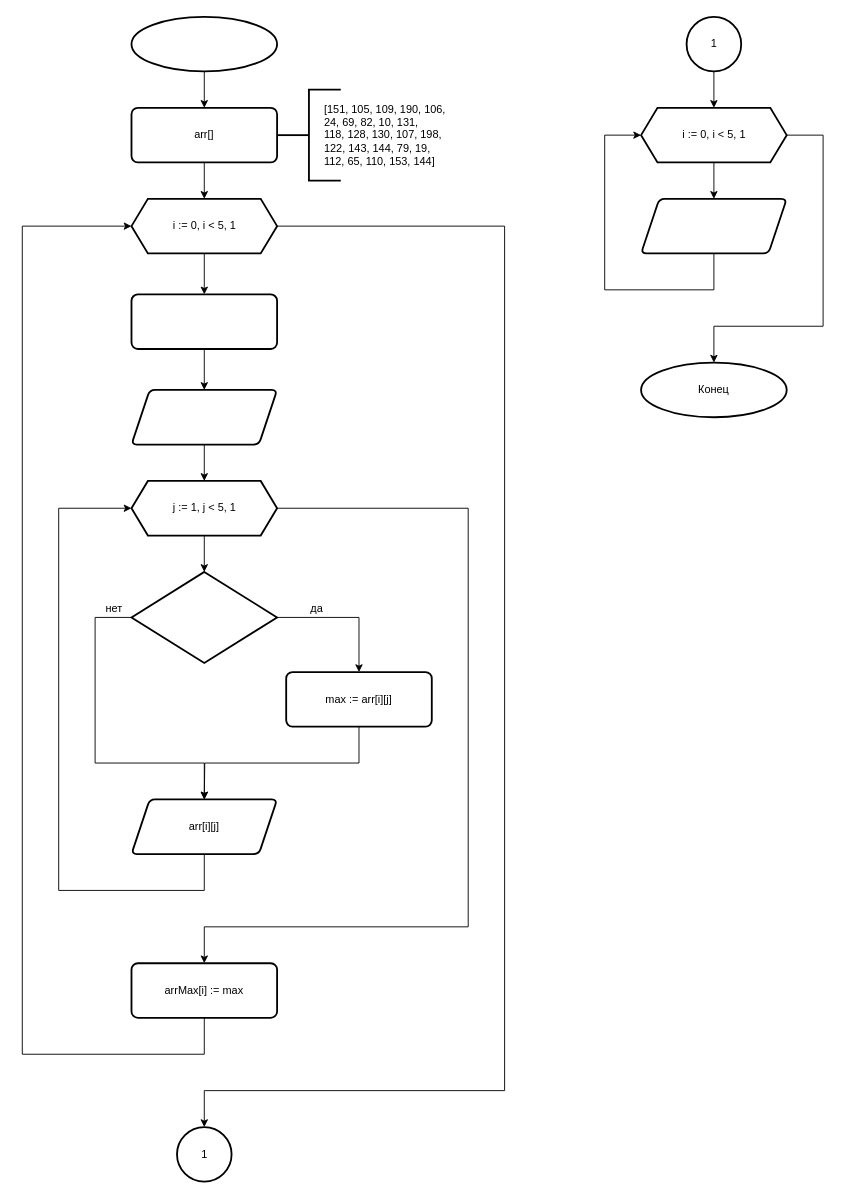
This 846x1198 diagram has some shape labels left out. Here are the shapes that lost their labels. From the top down, the centre of each, then its label:
At pixel 204 43: "Начало".
At pixel 713 225: "arrMax[i]".
At pixel 204 321: "max := arr[i][0]".
At pixel 204 417: "arr[i][0]".
At pixel 204 617: "max < arr[i][j]".
